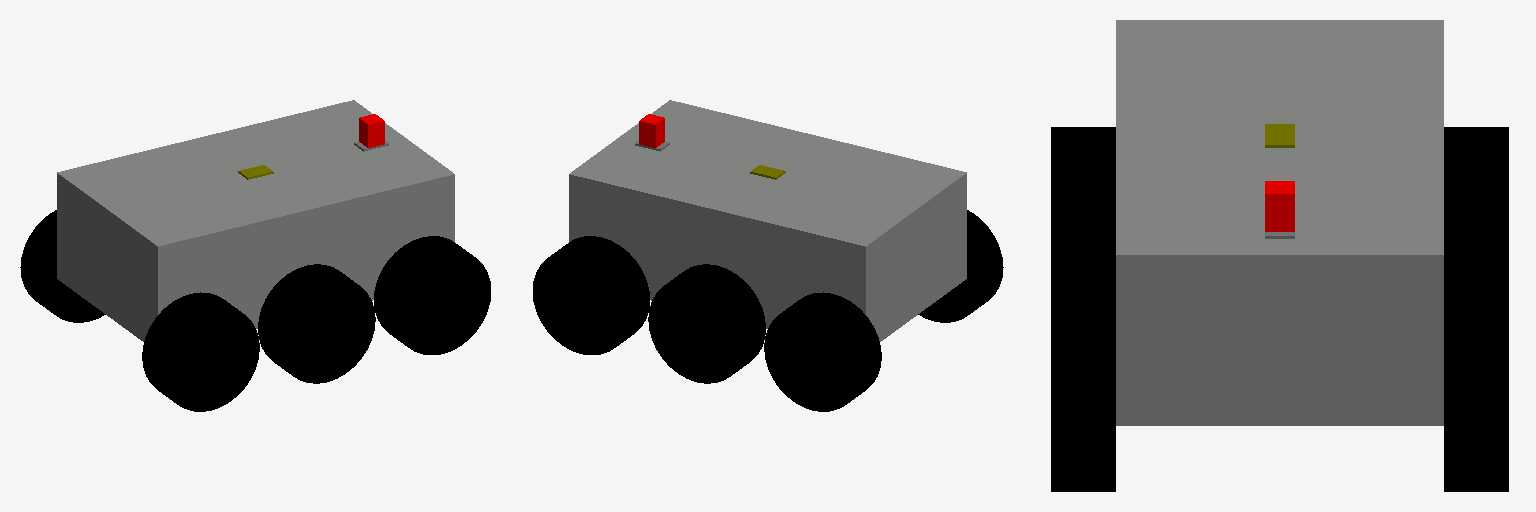
URDF robot description (panther):
<?xml version="1.0"?>
<robot name="panther" xmlns:xacro="http://ros.org/wiki/xacro">

	<!-- Link setup -->
	<link name="fr_wheel_link">
		<inertial>
			<origin xyz="0 0 0" rpy="1.5708 0 0"/>
			<mass value="6"/>
			<inertia ixx="0.047" ixy="0" ixz="0" iyy="0.047" iyz="0" izz="0.078" />
		</inertial>

		<visual>
			<origin xyz="0 0 0" rpy="1.5708 0.0 0.0"/>
			<geometry>
				<cylinder radius="0.15" length="0.108"/>
			</geometry>
			<material name="wheel">
				<color rgba="0 0 0 1.0" />
			</material>
		</visual>

		<collision>
			<origin xyz="0 0 0" rpy="1.5708 0.0 0.0"/>
			<geometry>
				<cylinder radius="0.15" length="0.108"/>
			</geometry>
		</collision>
	</link>

	<link name="mr_wheel_link">
		<!--inertial>
			<origin xyz="0 0 0" rpy="1.5708 0 0"/>
			<mass value="6"/>
			<inertia ixx="0.11" ixy="0" ixz="0" iyy="0.11" iyz="0" izz="0.15" />
		</inertial-->

		<visual>
			<origin xyz="0.0 0 0" rpy="1.5708 0.0 0.0"/>
			<geometry> 
				<cylinder radius="0.15" length="0.108"/>
			</geometry>
			<material name="wheel">
				<color rgba="0 0 0 1.0" />
			</material>
		</visual>

		<!--collision>
			<origin xyz="0.0 0 0.054" />
			<geometry>
				<cylinder radius="0.15" length="0.108"/>
			</geometry>
		</collision-->
	</link>

	<link name="rr_wheel_link">
		<inertial>
			<origin xyz="0 0 0" rpy="1.5708 0 0"/>
			<mass value="6"/>
			<inertia ixx="0.047" ixy="0" ixz="0" iyy="0.047" iyz="0" izz="0.078" />
		</inertial>

		<visual>
			<origin xyz="0 0 0" rpy="1.5708 0.0 0.0"/>
			<geometry>
				<cylinder radius="0.15" length="0.108"/>
			</geometry>
			<material name="wheel">
				<color rgba="0 0 0 1.0" />
			</material>
		</visual>

		<collision>
			<origin xyz="0 0 0" rpy="1.5708 0.0 0.0"/>
			<geometry>
				<cylinder radius="0.15" length="0.108"/>
			</geometry>
		</collision>
	</link>

	<link name="fl_wheel_link">
		<inertial>
			<origin xyz="0 0 0" rpy="1.5708 0 0"/>
			<mass value="6"/>
			<inertia ixx="0.047" ixy="0" ixz="0" iyy="0.047" iyz="0" izz="0.078" />
		</inertial>

		<visual>
			<origin xyz="0 0 0" rpy="-1.5708 0.0 0.0"/>
			<geometry>
				<cylinder radius="0.15" length="0.108"/>
			</geometry>
			<material name="wheel">
				<color rgba="0 0 0 1.0" />
			</material>
		</visual>

		<collision>
			<origin xyz="0 0 0" rpy="-1.5708 0.0 0.0"/>
			<geometry>
				<cylinder radius="0.15" length="0.108"/>
			</geometry>
		</collision>
	</link>

	<link name="ml_wheel_link">
		<!--inertial>
			<origin xyz="0 0 0" rpy="1.5708 0 0" />
			<mass value="6"/>
			<inertia ixx="0.11" ixy="0" ixz="0" iyy="0.11" iyz="0" izz="0.15" />
		</inertial-->

		<visual>
			<origin xyz="0 0 0" rpy="-1.5708 0.0 0.0"/>
			<geometry>
				<cylinder radius="0.15" length="0.108"/>
			</geometry>
			<material name="wheel">
				<color rgba="0 0 0 1.0" />
			</material>
		</visual>

		<!--collision>
			<origin xyz="0 0 0.054"/>
			<geometry>
				<cylinder radius="0.15" length="0.108"/>
			</geometry>
		</collision-->
	</link>

	<link name="rl_wheel_link"> 
		<inertial>
			<origin xyz="0 0 0" rpy="1.5708 0 0"/>
			<mass value="6"/>
			<inertia ixx="0.047" ixy="0" ixz="0" iyy="0.047" iyz="0" izz="0.078" />
		</inertial>

		<visual>
			<origin xyz="0 0 0" rpy="-1.5708 0.0 0.0"/>
			<geometry>
				<cylinder radius="0.15" length="0.108"/>
			</geometry>
			<material name="wheel">
				<color rgba="0 0 0 1.0" />
			</material>
		</visual>

		<collision>
			<origin xyz="0 0 0" rpy="-1.5708 0.0 0.0"/>
			<geometry>
				<cylinder radius="0.15" length="0.108"/>
			</geometry>
		</collision>
	</link>

	<link name="base_link">
		<inertial>
			<origin xyz="0 0 0.293" rpy="0 0 0"/>
			<mass value="55"/>
			<inertia ixx="2.743" ixy="0" ixz="0" iyy="5.705" iyz="0" izz="6.801" />
			<!--nertia ixx="7.315" ixy="0" ixz="0" iyy="10.276" iyz="0" izz="6.801" /-->
		</inertial>

		<visual>
			<origin xyz="0 0 0.293"/>
			<geometry>
				<box size = "0.914 0.53975 0.312"/>
			</geometry>
			<material name="hk1500">
				<color rgba="0.57 0.58 0.57 1.0" /> 
			</material>
		</visual>

		<collision>
			<origin xyz="0 0 0.293"/>
			<geometry> 
				<box size = "0.914 0.53975 0.312"/>
			</geometry>
		</collision> 
	</link>
	<link name="base_footprint"/>
	
	
	<!-- Joint defines -->
    <joint name="base_joint" type="fixed">
        <origin xyz="0 0 0.293" rpy="0 0 0"/>
        <parent link="base_footprint"/>
        <child link="base_link"/>
    </joint>
	<joint name="fr_wheel_joint" type="continuous">
		<parent link="base_link"/>
		<child link="fr_wheel_link"/>
		<axis xyz="0 1 0"/>
		<origin xyz="0.356108 -0.323875 0.137" />
	</joint>
	<joint name="fl_wheel_joint" type="continuous">
		<parent link="base_link"/>
		<child link="fl_wheel_link"/>
		<axis xyz="0 1 0"/>
		<origin xyz="0.356108 0.323875 0.137" />
	</joint>

	<joint name="mr_wheel_joint" type="fixed">
		<parent link="base_link"/>
		<child link="mr_wheel_link"/>
		<axis xyz="0 1 0"/>
		<origin xyz="0.0 -0.323875 0.137" />
	</joint>

	<joint name="ml_wheel_joint" type="fixed">
		<parent link="base_link"/>
		<child link="ml_wheel_link"/>
		<axis xyz="0 1 0"/>
		<origin xyz="0.0 0.323875 0.137" />
	</joint>

	<joint name="rr_wheel_joint" type="continuous">
		<parent link="base_link"/>
		<child link="rr_wheel_link"/>
		<axis xyz="0 1 0"/>
		<origin xyz="-0.356108 -0.323875 0.137" />
	</joint>
	<joint name="rl_wheel_joint" type="continuous">
		<parent link="base_link"/>
		<child link="rl_wheel_link"/>
		<axis xyz="0 1 0"/>
		<origin xyz="-0.356108 0.323875 0.137" />
	</joint>
	
	<!-- Lidar -->
	<link name="hokuyo_link"> 
    	<visual>
      		<origin xyz="0 0 0.003"/>
      		<geometry>
        		<box size="0.079 0.05 0.006"/>
      		</geometry>
      		<material name="support">
        		<color rgba="0.5 0.5 0.5 1.0"/>
      		</material>
    	</visual>
    	<visual>
      		<origin xyz="0 0 0.041"/>
      		<geometry>
        		<box size="0.05 0.05 0.07"/>
      		</geometry>
      		<material name="lidar">
        		<color rgba="1.0 0.0 0.0 0.7"/>
      		</material>
    	</visual>
    	<collision>
      		<origin xyz="0 0 0.003"/>
      		<geometry>
        		<box size="0.079 0.05 0.006"/>
      		</geometry>
    	</collision>
    	<collision>
      		<origin xyz="0 0 0.041"/>
      		<geometry>
        		<box size="0.05 0.05 0.07"/>
      		</geometry>
    	</collision>
  	</link>

  	<joint name="hokuyo_joint" type="fixed">
    		<origin xyz="0.356108 0 0.449"/>
    		<parent link="base_link"/>
    		<child link="hokuyo_link"/>
  	</joint>

  	<link name="laser_frame"/>

  	<joint name="laser_joint" type="fixed">
    		<origin xyz="0 0 0.04"/> <!-- something is weird here, was xyz = 0 0 0.513-->
    		<parent link="hokuyo_link"/>
    		<child link="laser_frame"/>
  	</joint>
  	
  	<!-- IMU -->
	<link name="imu_link"> 
    	<visual>
      		<origin xyz="0 0 0.003"/>
      		<geometry>
        		<box size="0.079 0.05 0.006"/>
      		</geometry>
      		<material name="imu">
        		<color rgba="0.5 0.5 0 1.0"/>
      		</material>
    	</visual>
		<collision>
      		<origin xyz="0 0 0.003"/>
      		<geometry>
        		<box size="0.079 0.05 0.006"/>
      		</geometry>
    	</collision>
	</link>

	<joint name="imu_joint" type="fixed">
    		<origin xyz="0 0 0.449"/>
    		<parent link="base_link"/>
    		<child link="imu_link"/>
  	</joint>
	
  	
  <!-- Gazebo -->
  
  <!-- ros_control plugin 
  <gazebo>
    <plugin name="gazebo_ros_control" filename="libgazebo_ros_control.so">
      <robotNamespace></robotNamespace>
      <robotSimType>gazebo_ros_control/DefaultRobotHWSim</robotSimType>
    </plugin>
  </gazebo>-->
  

  <!-- Base -->
  <gazebo reference="base_link">
    <material>Gazebo/Grey</material>
  </gazebo>

  <!-- Front Right Wheel -->
  <gazebo reference="fr_wheel_link">
    <collision> 
    <surface>
      <friction>
        <ode>
          <mu>0.5</mu>
          <mu2>1</mu2>
		  <slip1> 0.0016 </slip1>
		  <slip2> 0 </slip2>
		  <fdir1> 0 0 1 </fdir1>
        </ode>
      </friction>
    </surface>
  </collision>
  </gazebo>

  <!-- Front Left Wheel -->
  <gazebo reference="fl_wheel_link">
    <collision> 
    <surface>
      <friction>
        <ode>
          <mu>0.5</mu>
          <mu2>1</mu2>
		  <slip1> 0.0016 </slip1>
		  <slip2> 0 </slip2>
		  <fdir1> 0 0 1 </fdir1>
        </ode>
      </friction>
    </surface>
  </collision>
  </gazebo>
  
  <!-- Middle Right Wheel -->
  <!--gazebo reference="mr_wheel_link">
    <collision> 
    <surface>
      <friction>
        <ode>
          <mu>0.5</mu>
          <mu2>0.5</mu2>
        </ode>
      </friction>
    </surface>
  </collision>
  </gazebo-->

<!-- Middle Left Wheel >
  <gazebo reference="ml_wheel_link">
    <collision> 
    <surface>
      <friction>
        <ode>
          <mu>0.5</mu>
          <mu2>0.5</mu2>
        </ode>
      </friction>
    </surface>
  </collision>
  </gazebo-->

<!-- Rear Right Wheel -->
  <gazebo reference="rr_wheel_link">
   <collision> 
    <surface>
      <friction>
        <ode>
          <mu>0.5</mu>
          <mu2>1</mu2>
		  <slip1> 0.0016 </slip1>
		  <slip2> 0 </slip2>
		  <fdir1> 0 0 1 </fdir1>
        </ode>
      </friction>
    </surface>
  </collision>
  </gazebo>

<!-- Rear Left Wheel -->
  <gazebo reference="rl_wheel_link">
   <collision> 
    <surface>
      <friction>
        <ode>
          <mu>0.5</mu>
          <mu2>1</mu2>
		  <slip1> 0.0016 </slip1>
		  <slip2> 0 </slip2>
		  <fdir1> 0 0 1 </fdir1>
        </ode>
      </friction>
    </surface>
  </collision>
  </gazebo>

  <!-- camera_link 
  <gazebo reference="camera_link">
    <mu1>0.2</mu1>
    <mu2>0.2</mu2>
    <material>Gazebo/Red</material>
  </gazebo>-->

<!-- Skid Steer Plugin -->
 <gazebo>
  <plugin name="skid_steer_drive_controller" filename="libgazebo_ros_skid_steer_drive.so">
    <updateRate>200.0</updateRate>
    <robotNamespace></robotNamespace>
    <leftFrontJoint>fl_wheel_joint</leftFrontJoint>
    <rightFrontJoint>fr_wheel_joint</rightFrontJoint>
    <leftRearJoint>rl_wheel_joint</leftRearJoint>
    <rightRearJoint>rr_wheel_joint</rightRearJoint>
    <wheelSeparation>0.4</wheelSeparation>
    <wheelDiameter>0.215</wheelDiameter>
    <robotBaseFrame>base_footprint</robotBaseFrame>
    <torque>100</torque>
    <commandTopic>cmd_vel</commandTopic>
    <odometryFrame>odom</odometryFrame>
    <broadcastTF>True</broadcastTF>
  </plugin>
</gazebo>

  <!-- Lidar -->
  <gazebo reference="laser_frame">
    <sensor type="ray" name="head_hokuyo_sensor">
      <pose>0 0 0 0 0 0</pose>
      <visualize>true</visualize>
      <update_rate>100</update_rate>
      <ray>
        <scan>
          <horizontal>
            <samples>1080</samples>
            <resolution>1</resolution>
            <min_angle>-2.35619</min_angle>
            <max_angle>2.35619</max_angle>
          </horizontal>
        </scan>
        <range>
          <min>0.10</min>
          <max>30.0</max>
          <resolution>0.01</resolution>
        </range>
        <noise>
          <type>gaussian</type>
          <!-- Noise parameters based on published spec for Hokuyo laser
               achieving "+-30mm" accuracy at range < 10m.  A mean of 0.0m and
               stddev of 0.01m will put 99.7% of samples within 0.03m of the true
               reading. -->
          <mean>0.0</mean>
          <stddev>0.01</stddev>
        </noise>
      </ray>
      <plugin name="gazebo_ros_head_hokuyo_controller" filename="libgazebo_ros_laser.so">
        <topicName>/scan</topicName>
        <frameName>hokuyo_link</frameName>
      </plugin>
    </sensor>
  </gazebo>

	<!-- IMU -->
  <gazebo reference="imu_link">
    <gravity>true</gravity>
    <sensor name="imu_sensor" type="imu">
      <always_on>true</always_on>
      <update_rate>100</update_rate>
      <visualize>true</visualize>
      <topic>/imu/data_raw</topic>
      <plugin filename="libgazebo_ros_imu_sensor.so" name="imu_plugin">
        <topicName>/imu/data_raw</topicName>
        <bodyName>imu_link</bodyName>
        <updateRateHZ>10.0</updateRateHZ>
        <gaussianNoise>0.0</gaussianNoise>
        <xyzOffset>0 0 0</xyzOffset>
        <rpyOffset>0 0 0</rpyOffset>
        <frameName>imu_link</frameName>
        <initialOrientationAsReference>false</initialOrientationAsReference>
      </plugin>
      <pose>0 0 0 0 0 0</pose>
    </sensor>
  </gazebo>


</robot>

--- What the picture shows (computed from the rendered views, not written in the file) ---
3 views of the same robot in one strip: view 1: azimuth 30°, elevation 25°; view 2: azimuth 150°, elevation 25°; view 3: azimuth 270°, elevation 25° (orthographic).
Model panther with 11 links and 10 joints (4 continuous, 6 fixed), rooted at base_footprint, posed every joint at zero.
Links seen in each view (by area): view 1: base_link, mr_wheel_link, rr_wheel_link, fr_wheel_link, rl_wheel_link, hokuyo_link; view 2: base_link, ml_wheel_link, rl_wheel_link, fl_wheel_link, rr_wheel_link, hokuyo_link; view 3: base_link, fr_wheel_link, fl_wheel_link, mr_wheel_link, ml_wheel_link, rr_wheel_link, rl_wheel_link, hokuyo_link, imu_link.
Boxes of the visible links, left/top/right/bottom form: base_link: left=57, top=100, right=454, bottom=341; mr_wheel_link: left=258, top=264, right=375, bottom=383; rr_wheel_link: left=142, top=292, right=259, bottom=411; fr_wheel_link: left=374, top=236, right=490, bottom=354; rl_wheel_link: left=20, top=210, right=105, bottom=322; hokuyo_link: left=354, top=114, right=388, bottom=151; base_link: left=569, top=100, right=966, bottom=341; ml_wheel_link: left=648, top=264, right=765, bottom=383; rl_wheel_link: left=764, top=292, right=881, bottom=411; fl_wheel_link: left=533, top=236, right=649, bottom=354; rr_wheel_link: left=918, top=210, right=1003, bottom=322; hokuyo_link: left=635, top=114, right=669, bottom=151; base_link: left=1116, top=20, right=1443, bottom=425; fr_wheel_link: left=1051, top=310, right=1115, bottom=491; fl_wheel_link: left=1444, top=310, right=1508, bottom=491; mr_wheel_link: left=1051, top=218, right=1115, bottom=309; ml_wheel_link: left=1444, top=218, right=1508, bottom=309; rr_wheel_link: left=1051, top=127, right=1115, bottom=217; rl_wheel_link: left=1444, top=127, right=1508, bottom=217; hokuyo_link: left=1265, top=181, right=1294, bottom=238; imu_link: left=1265, top=124, right=1294, bottom=147.
Size in the robot's own frame: 1.01 by 0.7558 by 0.538 metres.
Geometry: primitives only (box / cylinder / sphere), no mesh files.
